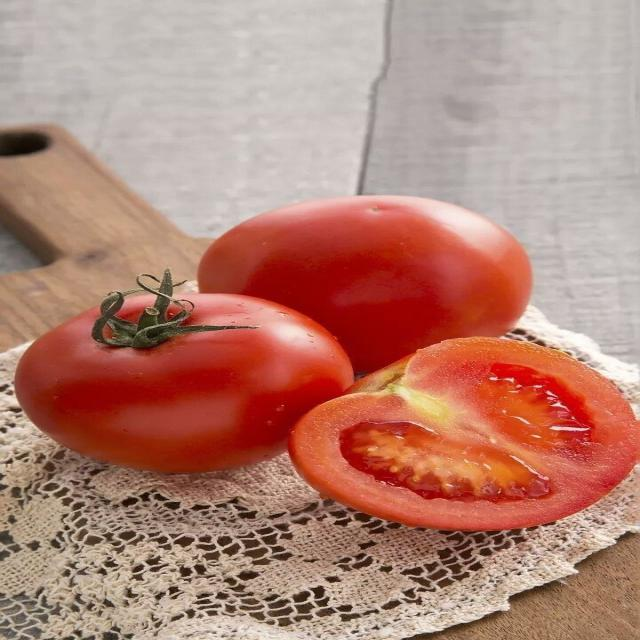tomato: (290, 338, 638, 529), (16, 294, 352, 472), (199, 196, 531, 371)
